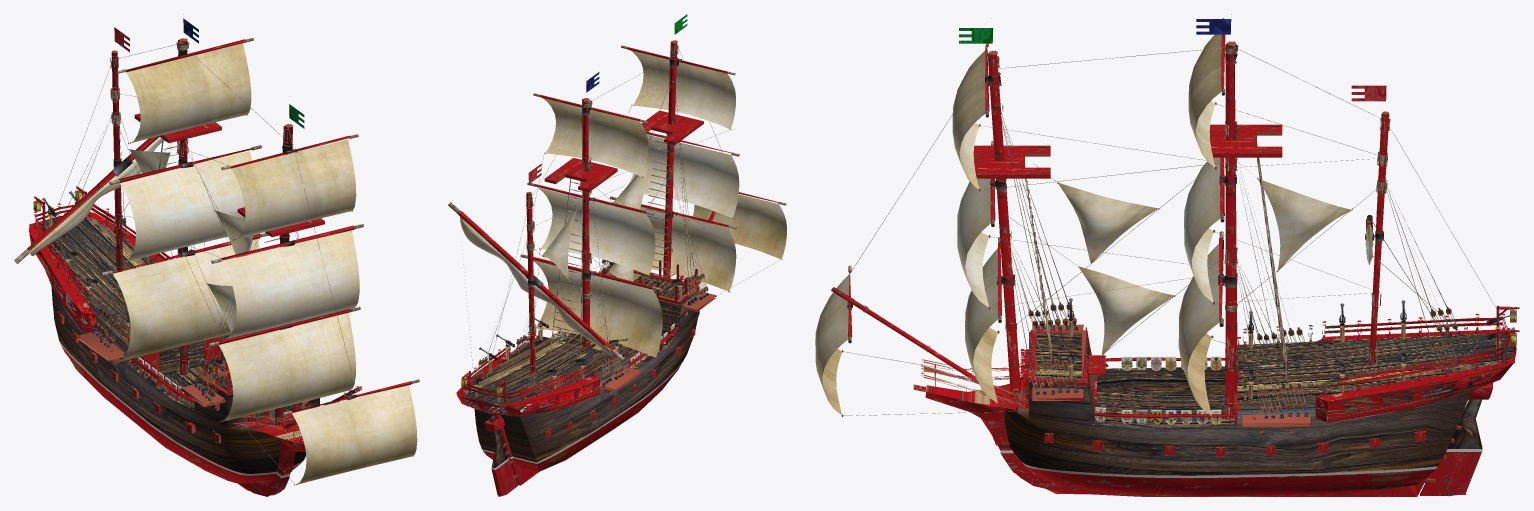
Rendered from galeon-1024.glb.
The picture shows the model from 3 angles, left to right: view 1: azimuth 30°, elevation 25°; view 2: azimuth 150°, elevation 25°; view 3: azimuth 270°, elevation 25°; orthographic projection. The views are drawn at different scales.
Parts seen in each view (by area): view 1: Object_141, Object_143, Object_140, Object_36, Object_33, Object_146, Object_83, Object_37, Object_34, Object_74, Object_11, Object_84 (+5 smaller); view 2: Object_141, Object_143, Object_140, Object_36, Object_33, Object_146, Object_37, Object_34, Object_83, Object_11, Object_84, Object_139 (+8 smaller); view 3: Object_143, Object_141, Object_140, Object_146, Object_83, Object_36, Object_33, Object_34, Object_37, Object_139, Object_74, Object_95 (+7 smaller).
Boxes of the visible parts, x1,y1,x2,y2 form: Object_141: [113, 43, 417, 484]; Object_143: [42, 215, 305, 473]; Object_140: [37, 215, 232, 419]; Object_36: [111, 39, 413, 485]; Object_33: [56, 14, 351, 441]; Object_146: [35, 204, 300, 485]; Object_83: [129, 149, 253, 332]; Object_37: [28, 212, 165, 332]; Object_34: [33, 124, 305, 475]; Object_74: [45, 41, 355, 484]; Object_11: [29, 137, 164, 255]; Object_84: [27, 136, 220, 443]; Object_141: [533, 50, 786, 357]; Object_143: [472, 287, 699, 462]; Object_140: [464, 273, 692, 404]; Object_36: [526, 47, 782, 394]; Object_33: [481, 77, 728, 392]; Object_146: [463, 345, 680, 471]; Object_37: [456, 354, 599, 416]; Object_34: [461, 40, 700, 405]; Object_83: [541, 155, 650, 281]; Object_11: [459, 216, 611, 354]; Object_84: [458, 211, 695, 438]; Object_139: [491, 326, 678, 496]; Object_143: [1004, 345, 1514, 475]; Object_141: [815, 34, 1221, 416]; Object_140: [1029, 325, 1513, 448]; Object_146: [1017, 317, 1509, 496]; Object_83: [1058, 178, 1352, 356]; Object_36: [831, 34, 1389, 433]; Object_33: [913, 14, 1423, 433]; Object_34: [925, 50, 1510, 450]; Object_37: [1315, 329, 1516, 422]; Object_139: [1000, 357, 1481, 496]; Object_74: [840, 44, 1507, 420]; Object_95: [848, 18, 1440, 381].
Size of the model in its own units: 6.26 by 12.13 by 16.1.
58 materials, 57 textured.
